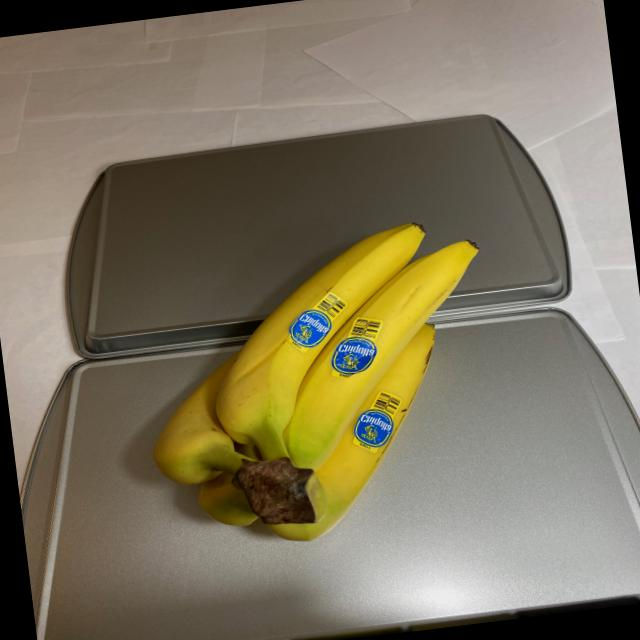banana: (125, 210, 510, 560)
